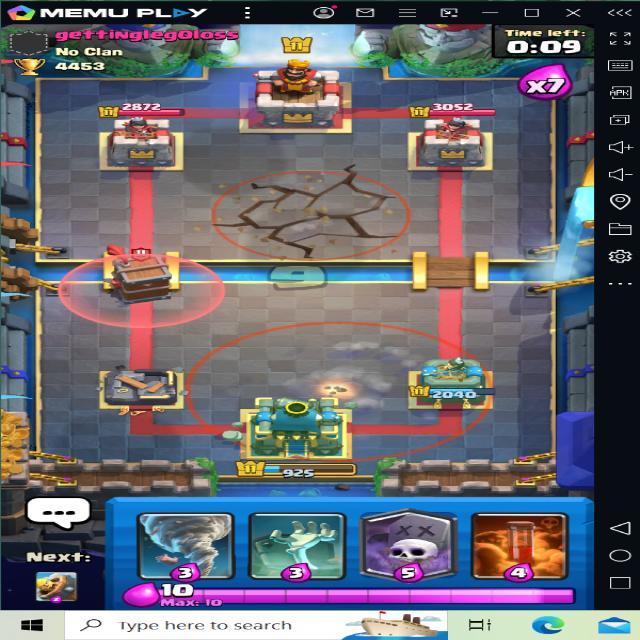earthquake: (213, 168, 410, 258)
royal-delivery: (95, 240, 179, 314)
tornado: (192, 318, 485, 464)
